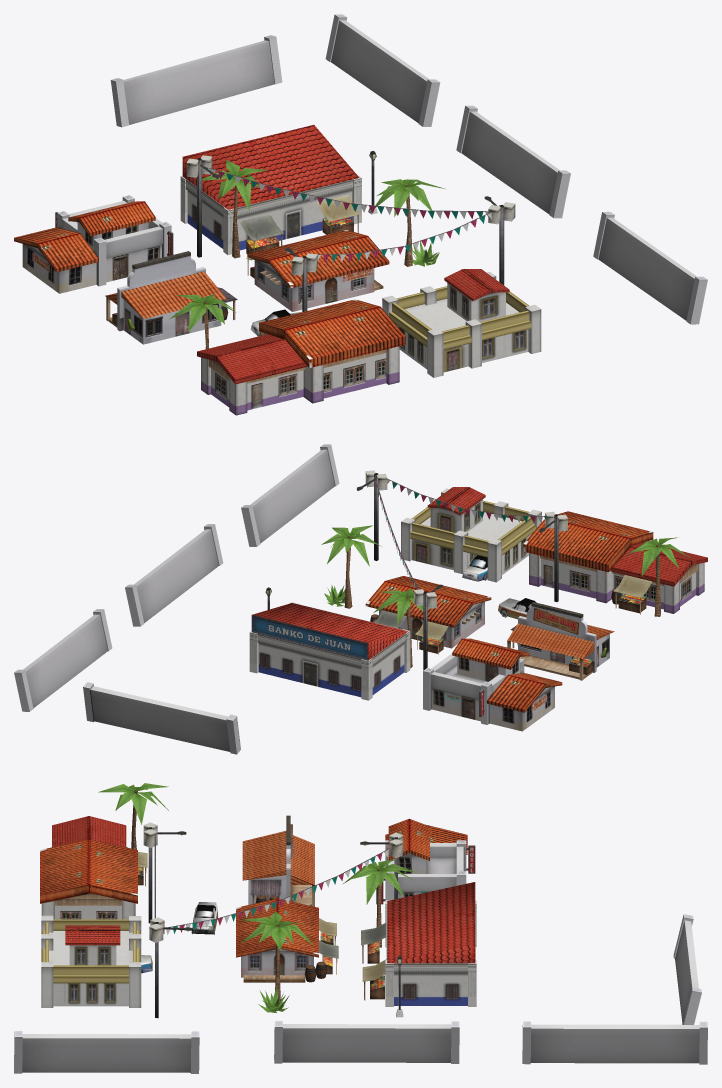
File: derecha.obj
The picture shows the model from 3 angles, top to bottom: view 1: azimuth 30°, elevation 25°; view 2: azimuth 150°, elevation 25°; view 3: azimuth 270°, elevation 25°; orthographic projection. The views are drawn at different scales.
Visible parts, largest first — view 1: Object_2.002, Object_2.012, Object_2.014, Object_2.006; view 2: Object_2.002, Object_2.012, Object_2.014, Object_2.005, Object_2.006; view 3: Object_2.002, Object_2.012, Object_2.006, Object_2.014, Object_2.005.
Boxes of the visible parts, x1=… form: Object_2.002: x1=14, y1=151, x2=541, y2=377; Object_2.012: x1=110, y1=14, x2=707, y2=324; Object_2.014: x1=169, y1=294, x2=405, y2=415; Object_2.006: x1=182, y1=125, x2=361, y2=259; Object_2.002: x1=265, y1=470, x2=614, y2=731; Object_2.012: x1=14, y1=444, x2=339, y2=754; Object_2.014: x1=523, y1=511, x2=707, y2=616; Object_2.005: x1=249, y1=615, x2=372, y2=700; Object_2.006: x1=252, y1=589, x2=423, y2=694; Object_2.002: x1=41, y1=815, x2=475, y2=1018; Object_2.012: x1=14, y1=914, x2=707, y2=1073; Object_2.006: x1=343, y1=859, x2=475, y2=1006; Object_2.014: x1=40, y1=783, x2=168, y2=919; Object_2.005: x1=468, y1=900, x2=476, y2=1006.
Size of the model in its own units: 288 by 58.44 by 379.
Materials: 5 (5 with a texture image).
